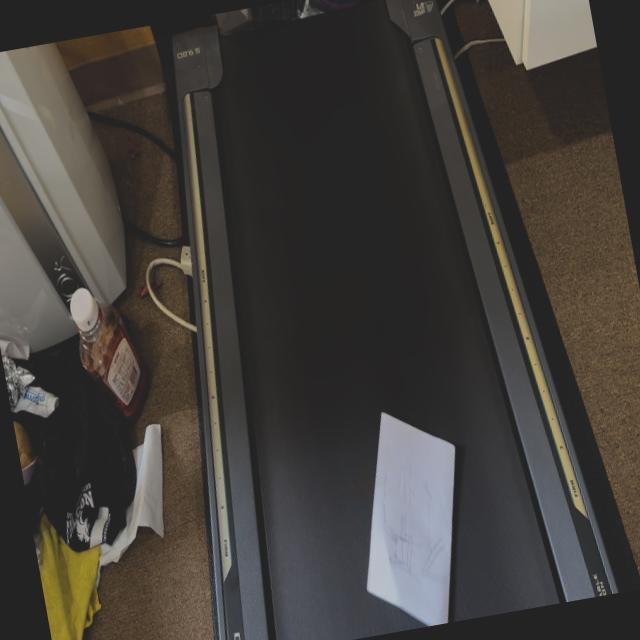Recycle: (336, 397, 487, 632)
